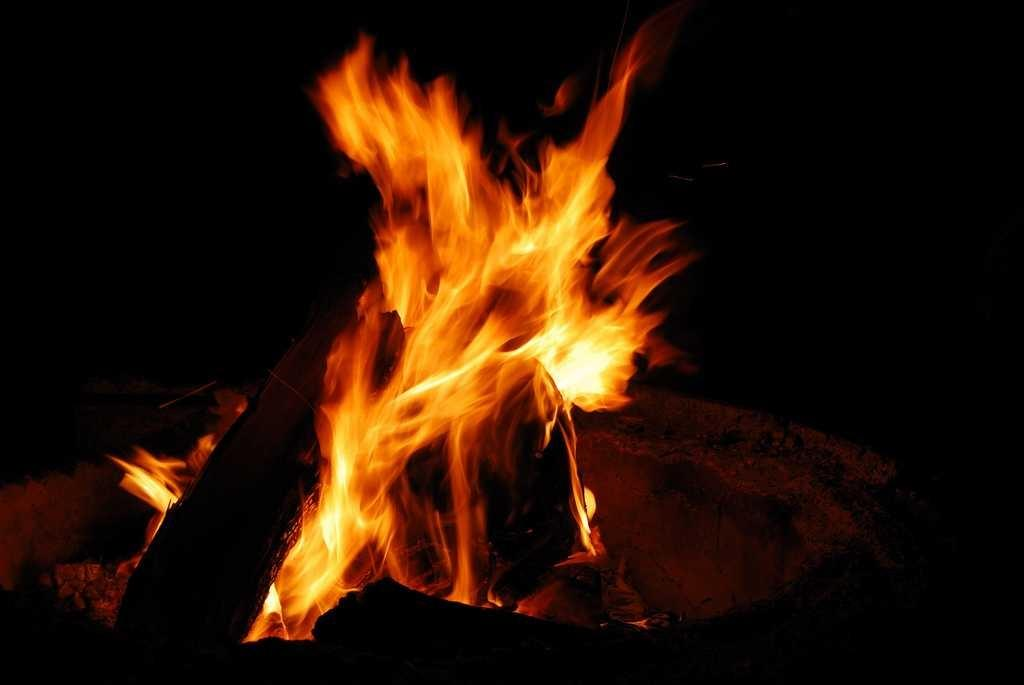fire: (380, 242, 625, 395), (330, 407, 463, 580), (373, 107, 490, 217)
